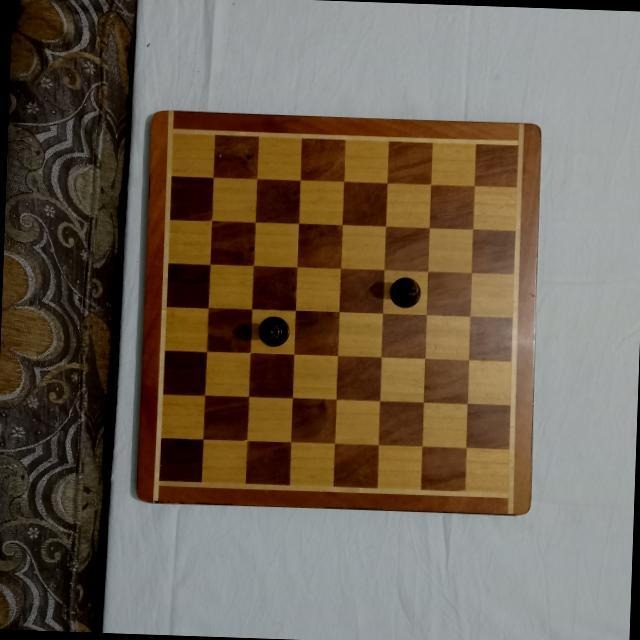black-bishop: (387, 276, 421, 311), (256, 315, 288, 349)
